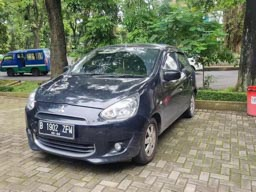plat: (40, 122, 73, 134)
